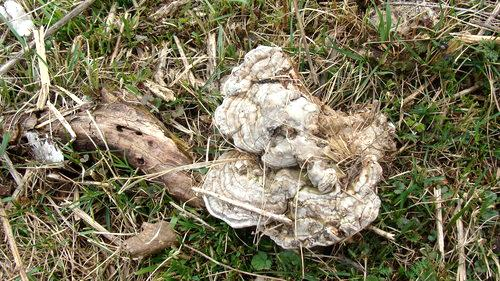Ganoderma - Fruit Body: (200, 43, 399, 254)
